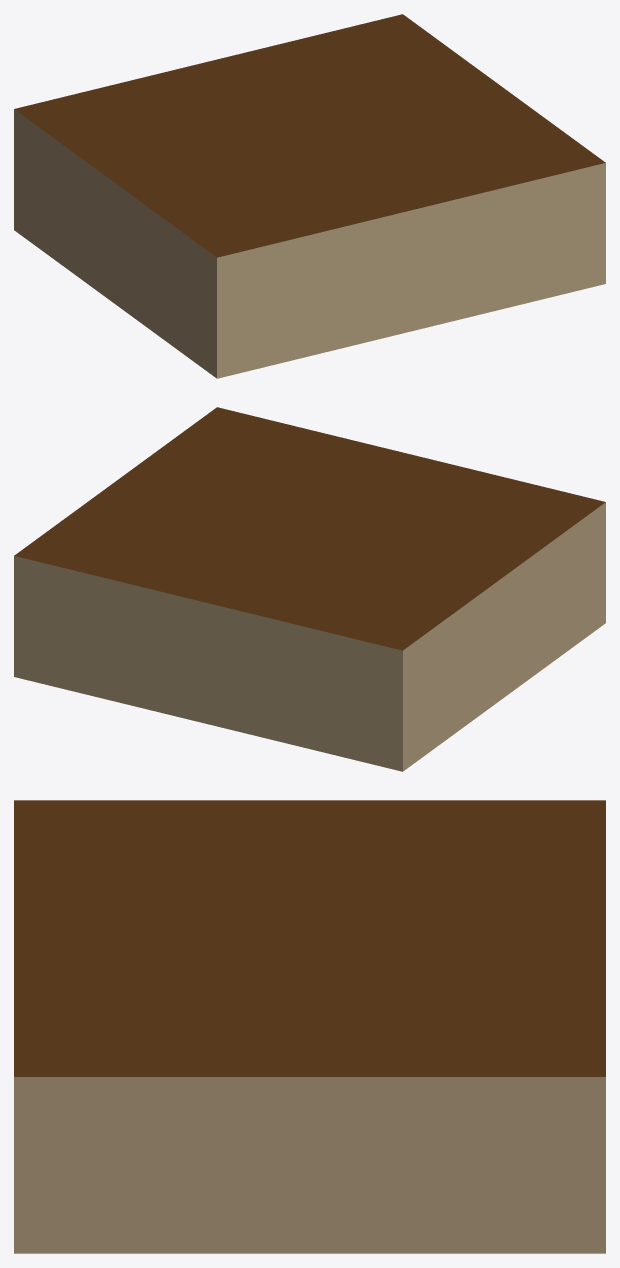
The model's file is building_shell_coastal_base.glb.
3 renders of one model, top to bottom at view 1: azimuth 30°, elevation 25°; view 2: azimuth 150°, elevation 25°; view 3: azimuth 270°, elevation 25°, orthographic. The views are drawn at different scales.
Parts seen in each view (by area): view 1: building_shell_coastal_base; view 2: building_shell_coastal_base; view 3: building_shell_coastal_base.
Part boxes in pixels (x1,y1,x2,y2): building_shell_coastal_base: (14,14,605,378); building_shell_coastal_base: (14,407,605,771); building_shell_coastal_base: (14,800,605,1253).
Size of the model in its own units: 4.2 by 1.25 by 3.8.
